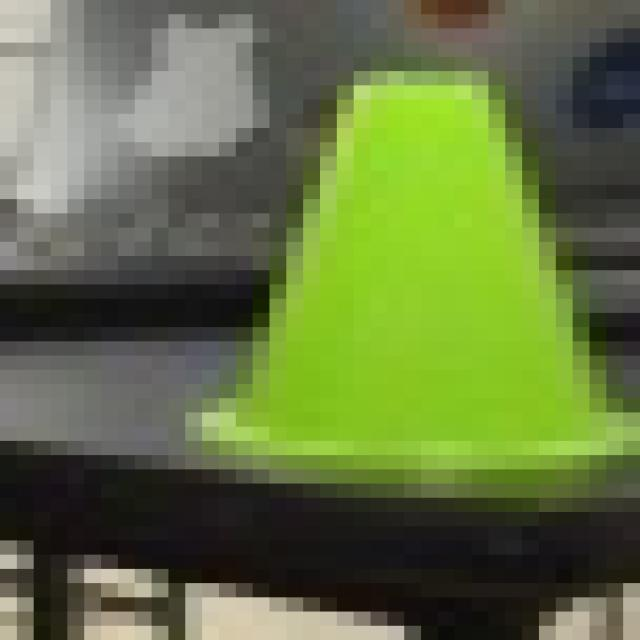cono: (169, 57, 623, 498)
